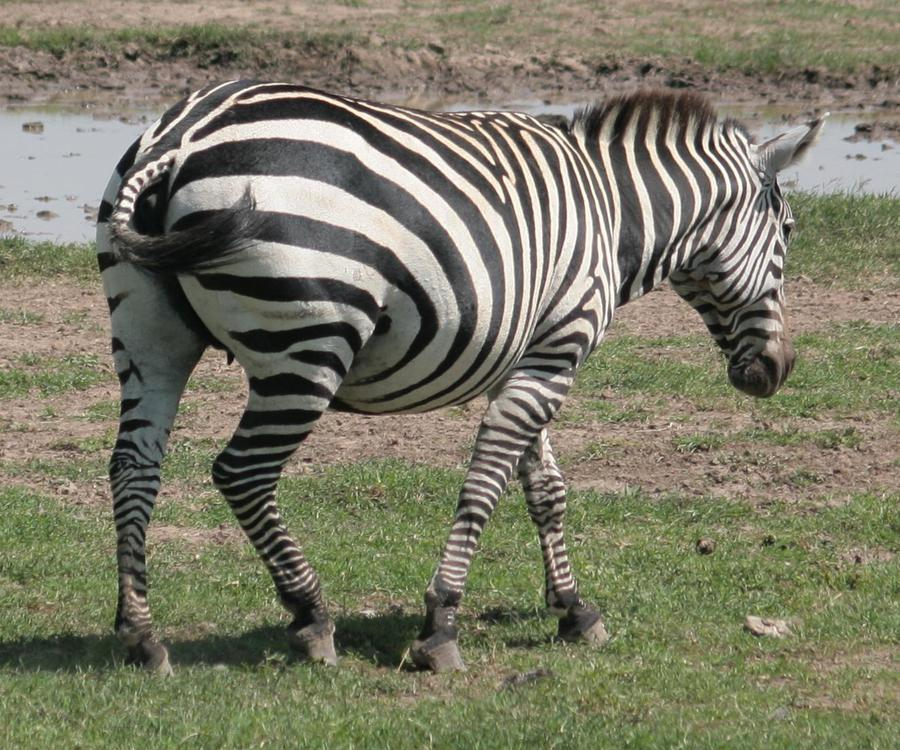zebra_plains: (199, 67, 655, 472)
